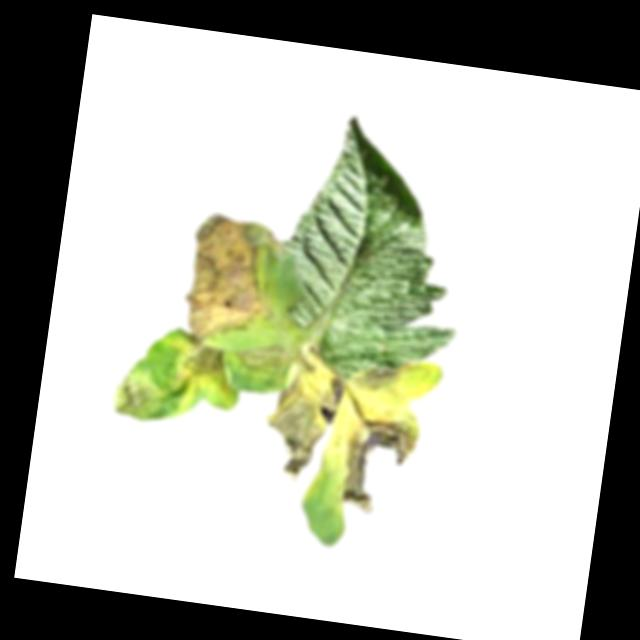Late_blight: (175, 210, 292, 347), (257, 347, 344, 485), (336, 408, 422, 521), (165, 331, 237, 413), (108, 366, 167, 423), (346, 351, 414, 396), (233, 332, 294, 377)
healthy: (266, 107, 484, 387)
